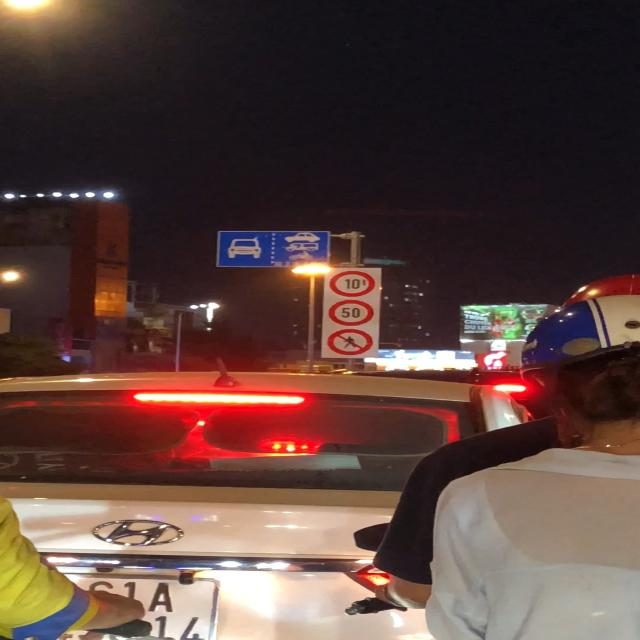Bien bao cam nguoi di bo: (327, 328, 373, 356)
Bien bao toc do toi da cho phep: (328, 299, 376, 327)
